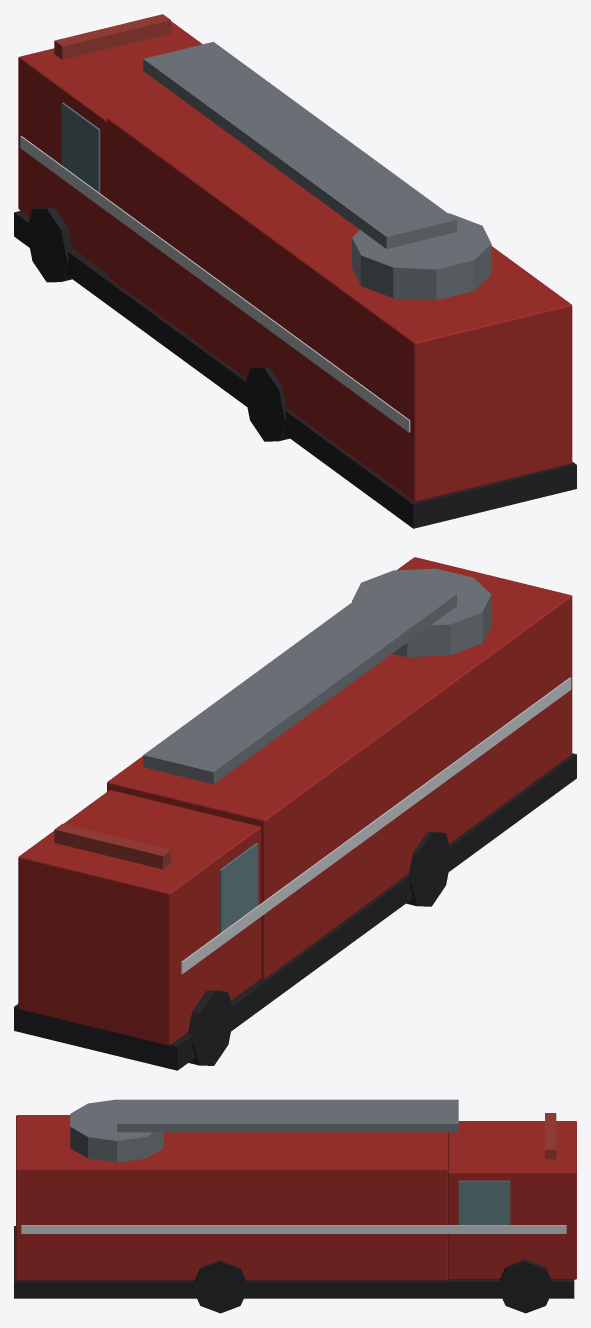
The model's file is ladder_truck_lod1.glb.
3 renders of one model, top to bottom at view 1: azimuth 30°, elevation 25°; view 2: azimuth 150°, elevation 25°; view 3: azimuth 270°, elevation 25°, orthographic. The views are drawn at different scales.
Visible parts, largest first — view 1: ladder_truck_lod1; view 2: ladder_truck_lod1; view 3: ladder_truck_lod1.
Boxes of the visible parts, x1=… form: ladder_truck_lod1: x1=14, y1=14, x2=576, y2=528; ladder_truck_lod1: x1=14, y1=557, x2=576, y2=1070; ladder_truck_lod1: x1=14, y1=1099, x2=576, y2=1313.
Size of what is drawn, in the model's own units: 2.62 by 3.69 by 10.88.
Materials: 2 (2 with a texture image).
